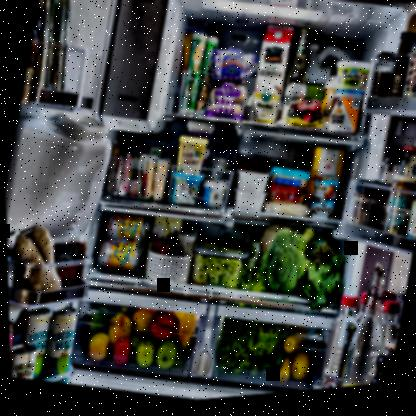apple: (83, 330, 110, 365), (103, 314, 132, 344), (152, 341, 176, 374), (131, 341, 156, 372), (108, 337, 131, 367), (170, 343, 186, 370)
broccoli: (258, 232, 308, 297)
cheese: (170, 135, 207, 181), (167, 173, 203, 211)
corn: (274, 357, 290, 386)
cucumber: (267, 353, 282, 374)
ginger: (7, 221, 69, 293)
lemon: (287, 354, 311, 387)
lettuce: (217, 319, 274, 365)
red_bell_pepper: (145, 311, 180, 346)
red_grapes: (148, 234, 181, 260)
spinach: (297, 262, 345, 312)
yoghurt: (330, 62, 370, 107), (266, 168, 308, 195), (197, 179, 228, 215)
